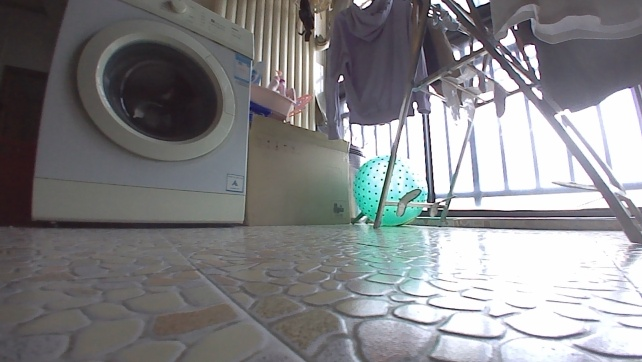washing_machine: (26, 0, 255, 232)
